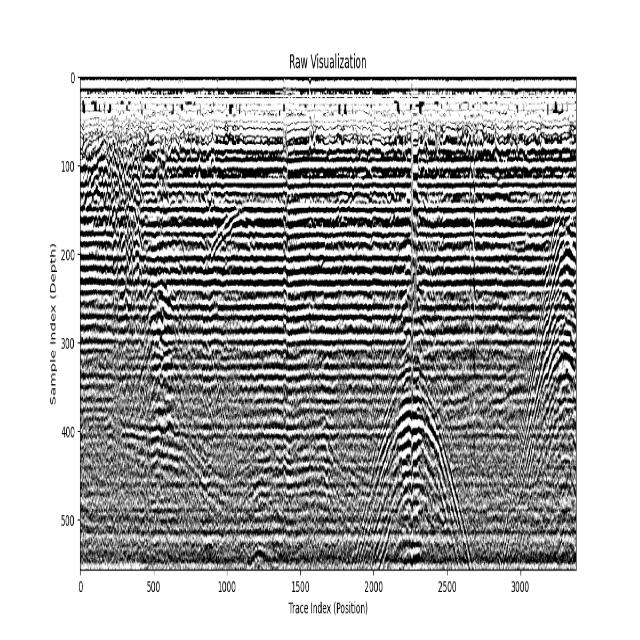anomaly: (350, 208, 478, 576), (497, 185, 578, 563), (109, 407, 230, 533), (242, 413, 348, 540), (202, 193, 253, 277)
